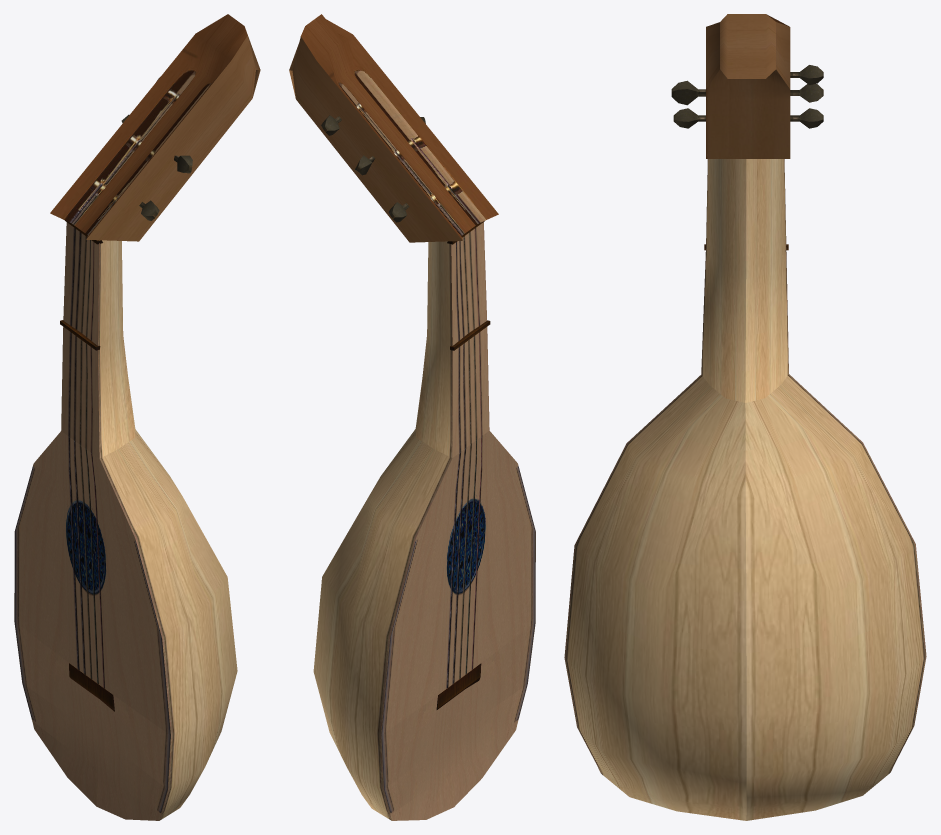
File: Lute.fbx
3 views of the same model, side by side, from view 1: azimuth 30°, elevation 25°; view 2: azimuth 150°, elevation 25°; view 3: azimuth 270°, elevation 25° (orthographic). The views are drawn at different scales.
Parts seen in each view (by area): view 1: Lute; view 2: Lute; view 3: Lute.
Part boxes in pixels (x1,y1,x2,y2): Lute: [14, 14, 260, 820]; Lute: [289, 14, 535, 820]; Lute: [564, 14, 926, 820].
Size of the model in its own units: 0.3281 by 1.28 by 0.4809.
